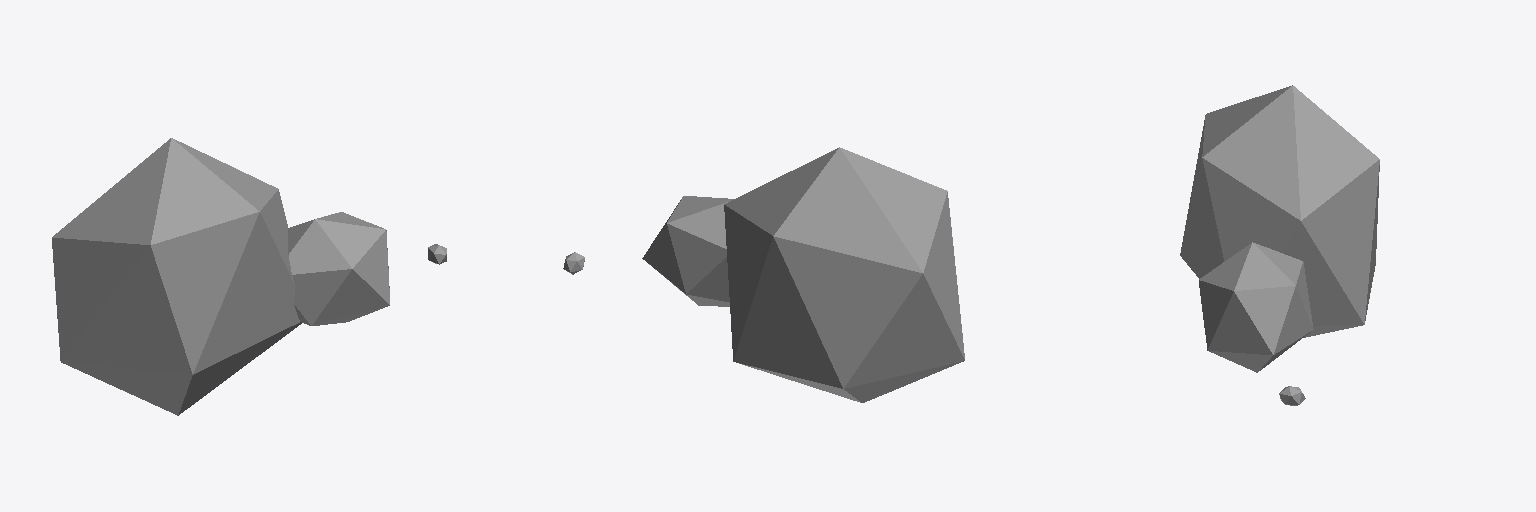
The model's file is Cloud1.obj.
3 views of the same model, side by side, from view 1: azimuth 30°, elevation 25°; view 2: azimuth 150°, elevation 25°; view 3: azimuth 270°, elevation 25° (orthographic).
Parts seen in each view (by area): view 1: Icosphere.003_Icosphere.022; view 2: Icosphere.003_Icosphere.022; view 3: Icosphere.003_Icosphere.022.
Part boxes in pixels (x1,y1,x2,y2): Icosphere.003_Icosphere.022: (52,138,446,415); Icosphere.003_Icosphere.022: (563,147,964,402); Icosphere.003_Icosphere.022: (1180,85,1379,405).
Size of the model in its own units: 4.9 by 3.16 by 2.16.